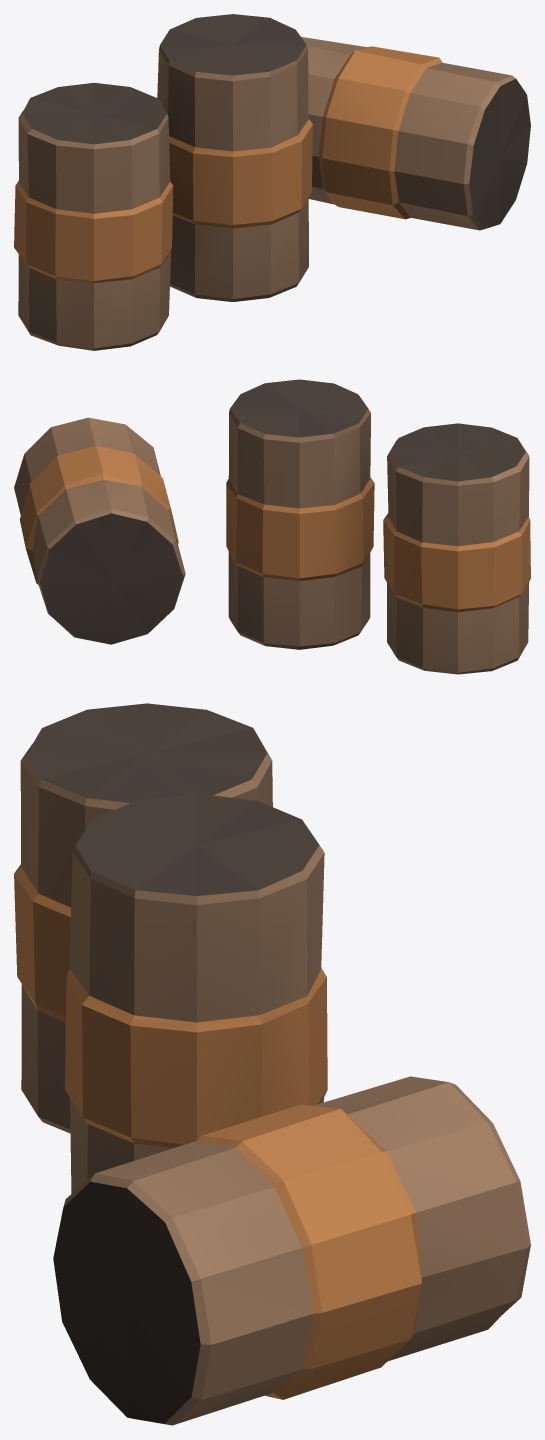
Rendered from obj_barriles_3.glb.
The picture shows the model from 3 angles, top to bottom: view 1: azimuth 30°, elevation 25°; view 2: azimuth 150°, elevation 25°; view 3: azimuth 270°, elevation 25°; orthographic projection. The views are drawn at different scales.
Parts seen in each view (by area): view 1: propforge-libre-barriles; view 2: propforge-libre-barriles; view 3: propforge-libre-barriles.
Boxes of the visible parts, bbox=[...] form: propforge-libre-barriles: bbox=[14, 14, 530, 350]; propforge-libre-barriles: bbox=[14, 379, 530, 674]; propforge-libre-barriles: bbox=[14, 703, 530, 1425].
Size of the model in its own units: 1.13 by 0.4754 by 0.5842.
